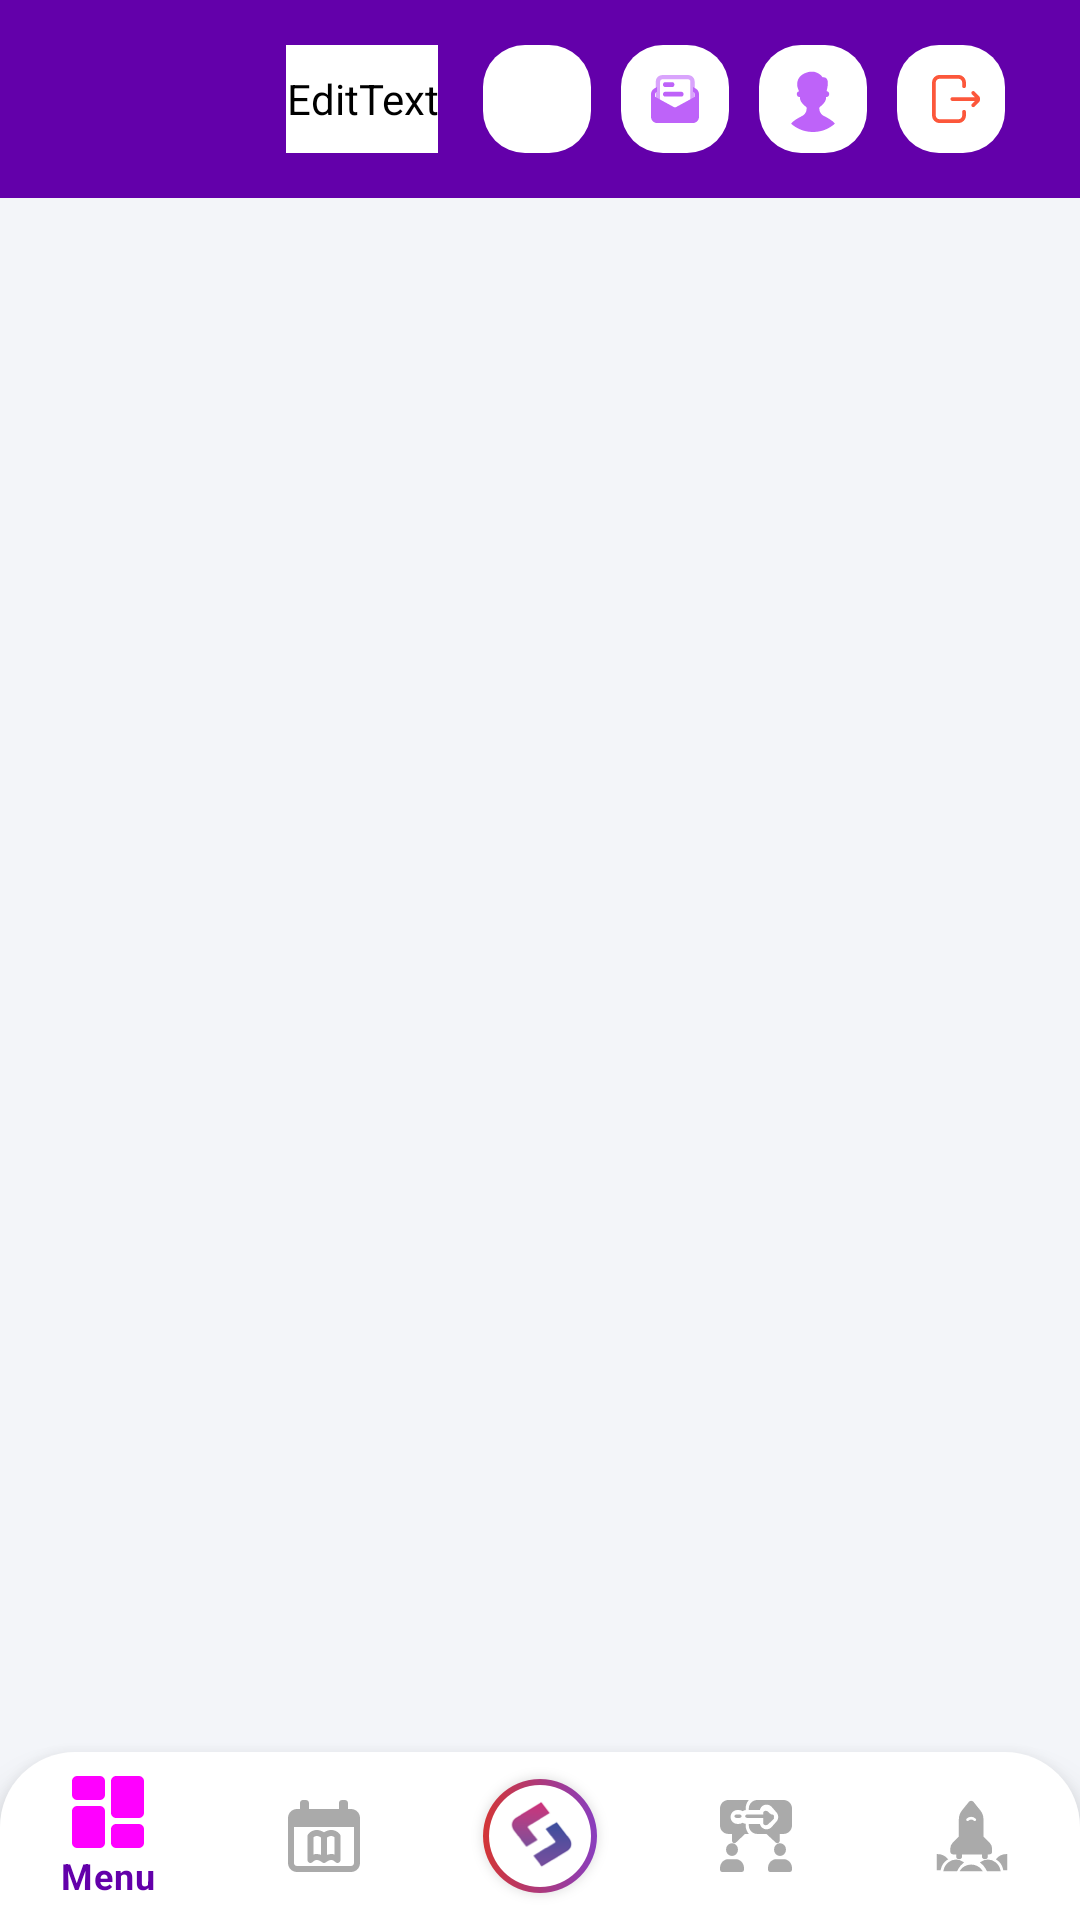

Point at icon controls on the screen. Image size 1080 × 1920, points as point (x, y).
exit: point (956, 99)
message: point (675, 99)
profile: point (813, 99)
